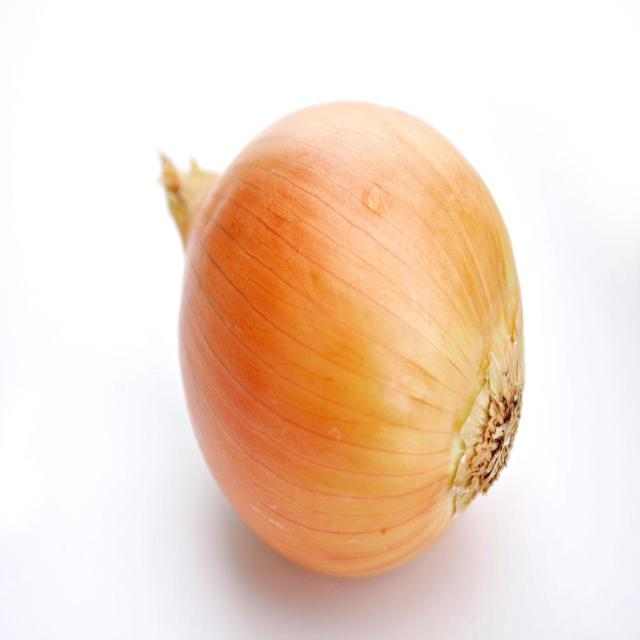Onion: (156, 102, 524, 582)
